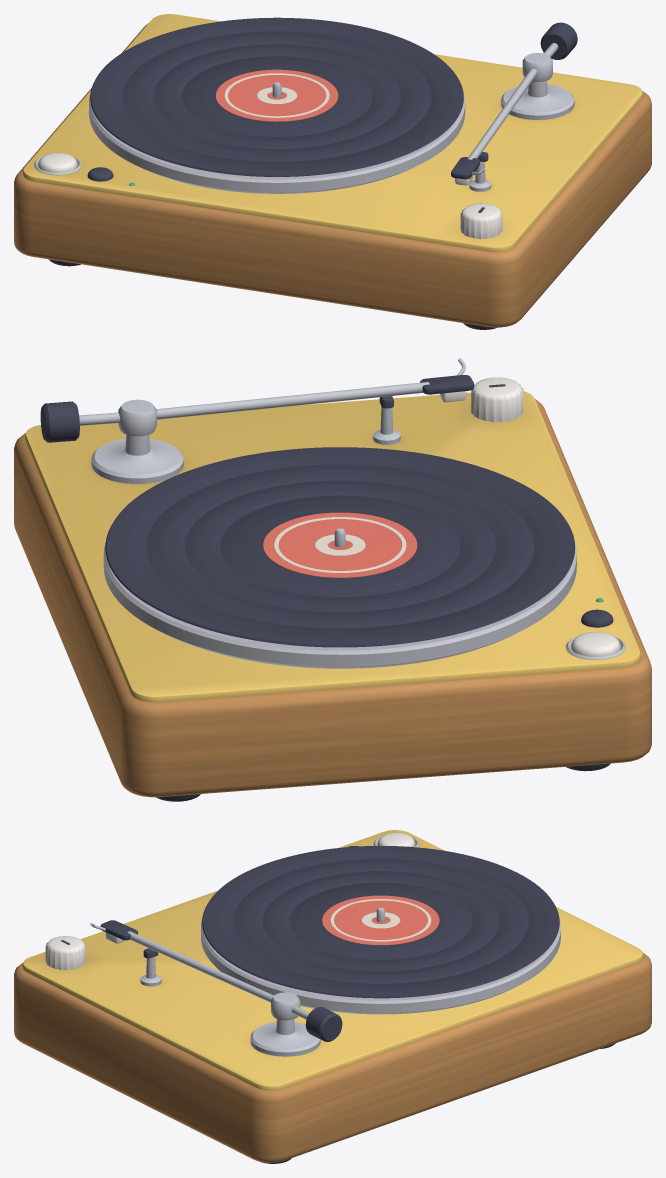
Rendered from turntable.glb.
The picture shows the model from 3 angles, top to bottom: view 1: azimuth 30°, elevation 25°; view 2: azimuth 150°, elevation 25°; view 3: azimuth 270°, elevation 25°; orthographic projection. The views are drawn at different scales.
Parts seen in each view (by area): view 1: turntable_body, turntable_platter, turntable_tonearm; view 2: turntable_body, turntable_platter, turntable_tonearm; view 3: turntable_body, turntable_platter, turntable_tonearm.
Part boxes in pixels (x1,y1,x2,y2): turntable_body: (14,14,651,329); turntable_platter: (89,17,465,193); turntable_tonearm: (451,22,577,185); turntable_body: (14,377,651,801); turntable_platter: (103,447,576,668); turntable_tonearm: (40,358,473,442); turntable_body: (14,830,651,1163); turntable_platter: (201,846,560,1014); turntable_tonearm: (90,920,342,1041).
Bounding box in the file's own units: 0.2997 × 0.0739 × 0.3059.
Materials: 4 (3 with a texture image).
